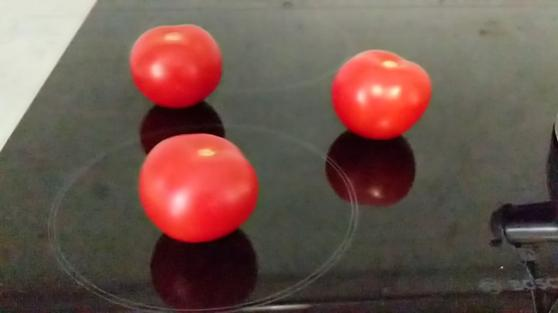tomato: (136, 127, 264, 248), (334, 47, 436, 144), (131, 19, 227, 113)
